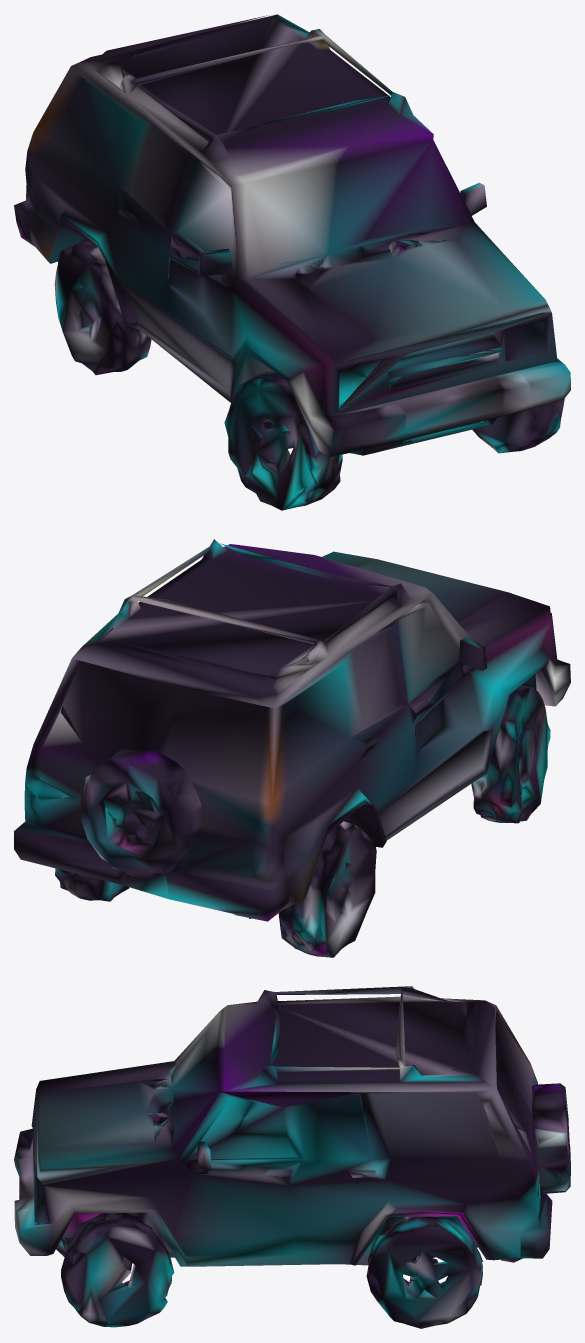
The model's file is car_jeep.glb.
The picture shows the model from 3 angles, top to bottom: view 1: azimuth 30°, elevation 25°; view 2: azimuth 150°, elevation 25°; view 3: azimuth 270°, elevation 25°; orthographic projection. The views are drawn at different scales.
Size of the model in its own units: 2.27 by 2.23 by 4.5.
